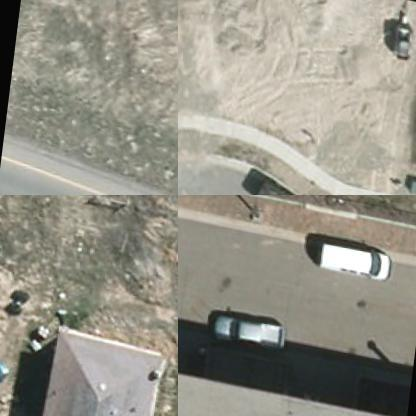car: (208, 304, 286, 352)
pickup: (247, 172, 345, 194)
van: (314, 233, 390, 278)
